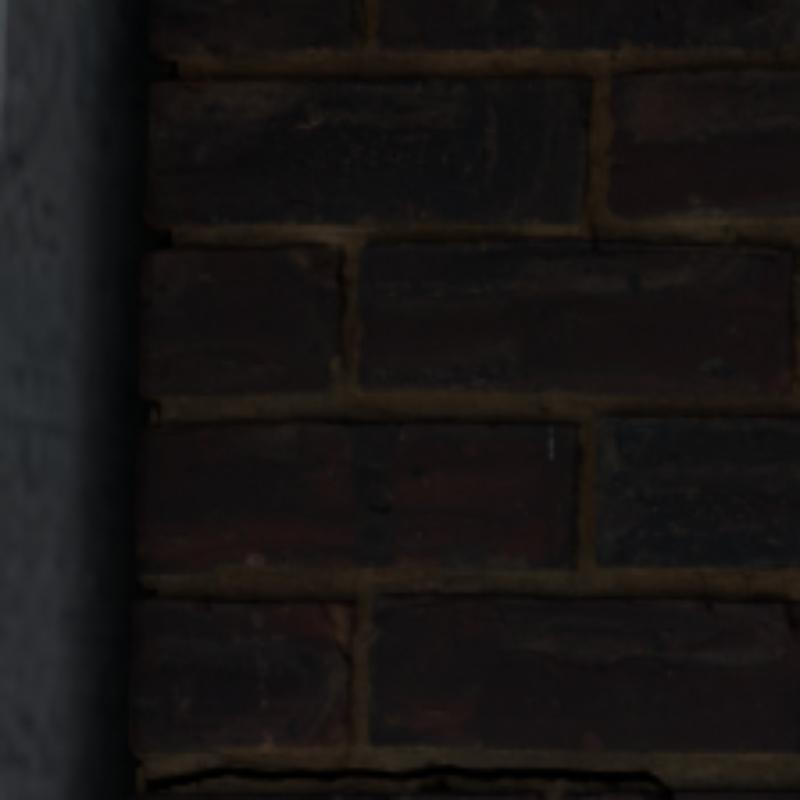crack: (146, 764, 671, 796)
